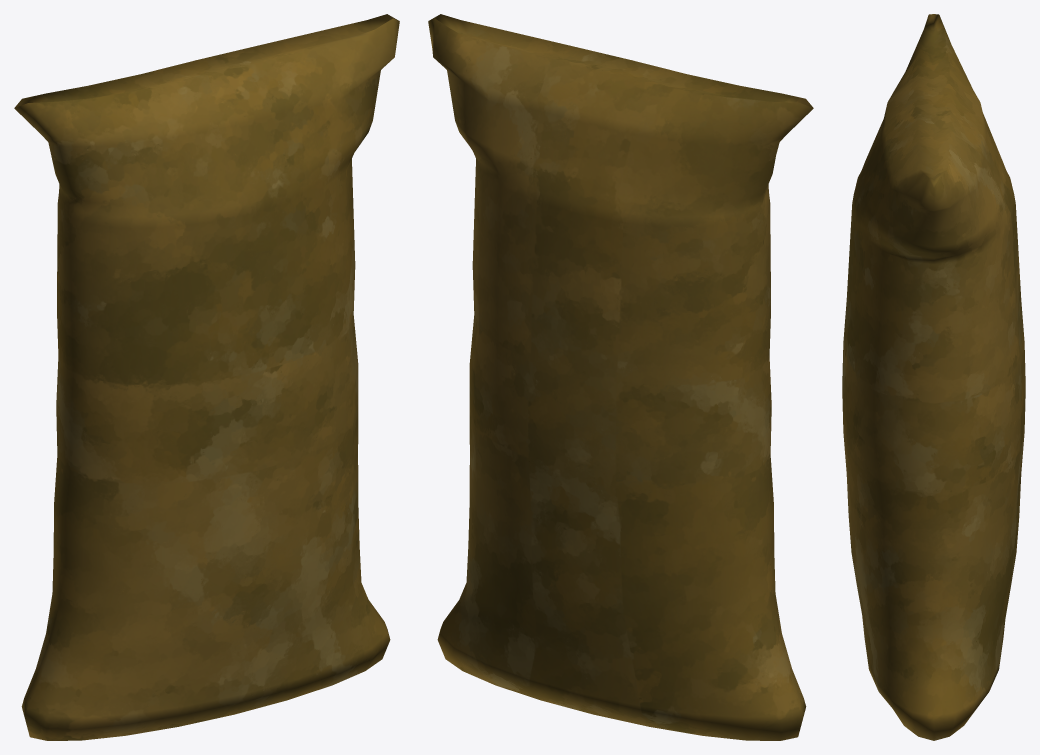
The model's file is Saco de arroz.fbx.
The picture shows the model from 3 angles, left to right: view 1: azimuth 30°, elevation 25°; view 2: azimuth 150°, elevation 25°; view 3: azimuth 270°, elevation 25°; orthographic projection. The views are drawn at different scales.
Visible parts, largest first — view 1: Saco_de_arroz; view 2: Saco_de_arroz; view 3: Saco_de_arroz.
Part boxes in pixels (x1,y1,x2,y2): Saco_de_arroz: [14, 14, 399, 740]; Saco_de_arroz: [428, 14, 813, 740]; Saco_de_arroz: [842, 14, 1025, 740].
Bounding box in the file's own units: 53.31 × 84.71 × 24.55.
1 material, 1 textured.
